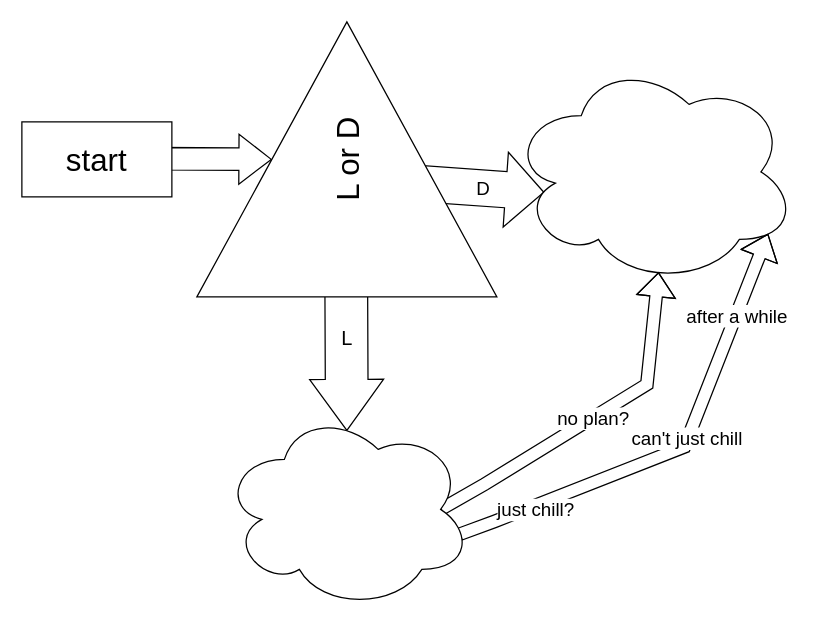
The diagram is 819 pixels wide and 631 high, and some of its shapes have lost their labels. Here are the shapes that lost their labels. From the top down, the centre of each, then its label:
(x=652, y=171): *distribute remainders *dispose body or not *books and other owns
(x=346, y=508): *no real plan *just chill
